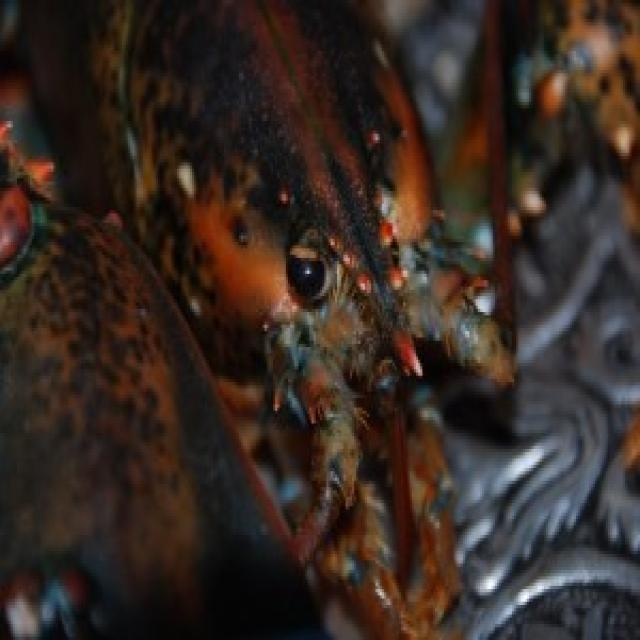lobsters: (8, 17, 575, 640)
